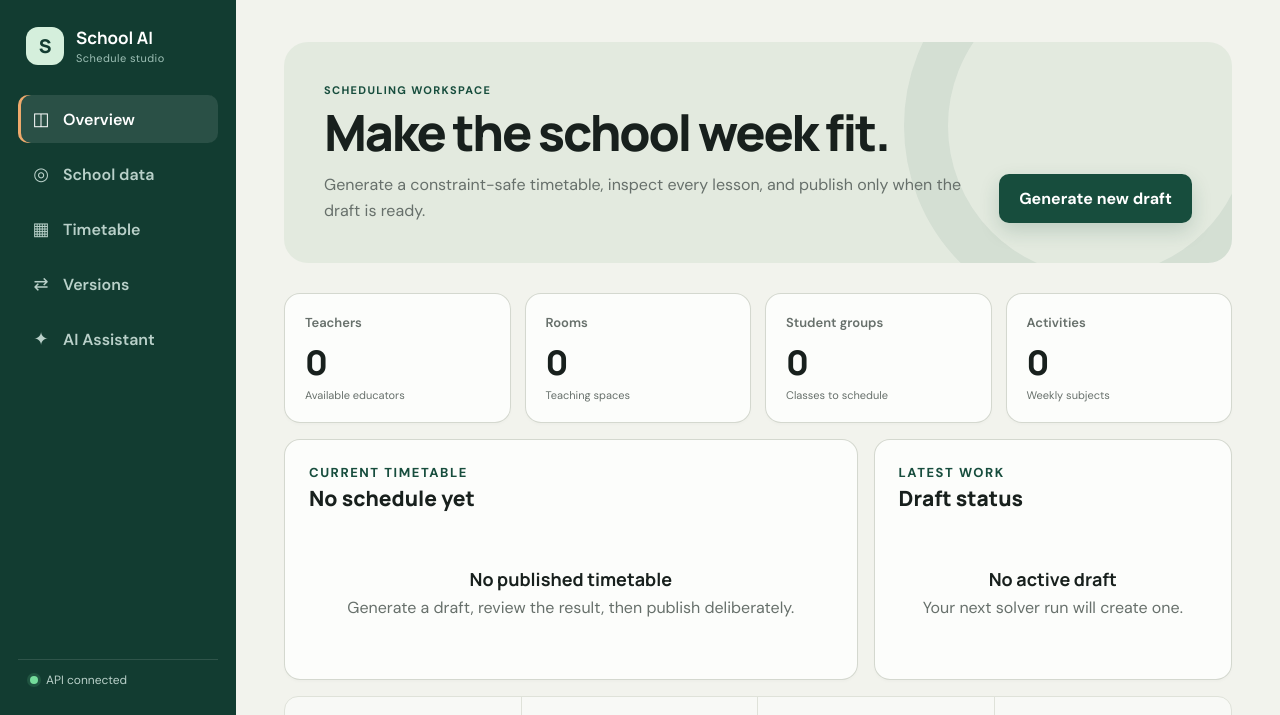
Test case: explains when scheduling master data has not been seeded
Click the button "Generate new draft". click: (1096, 199)
box: x1=999 y1=174 x2=1192 y2=223
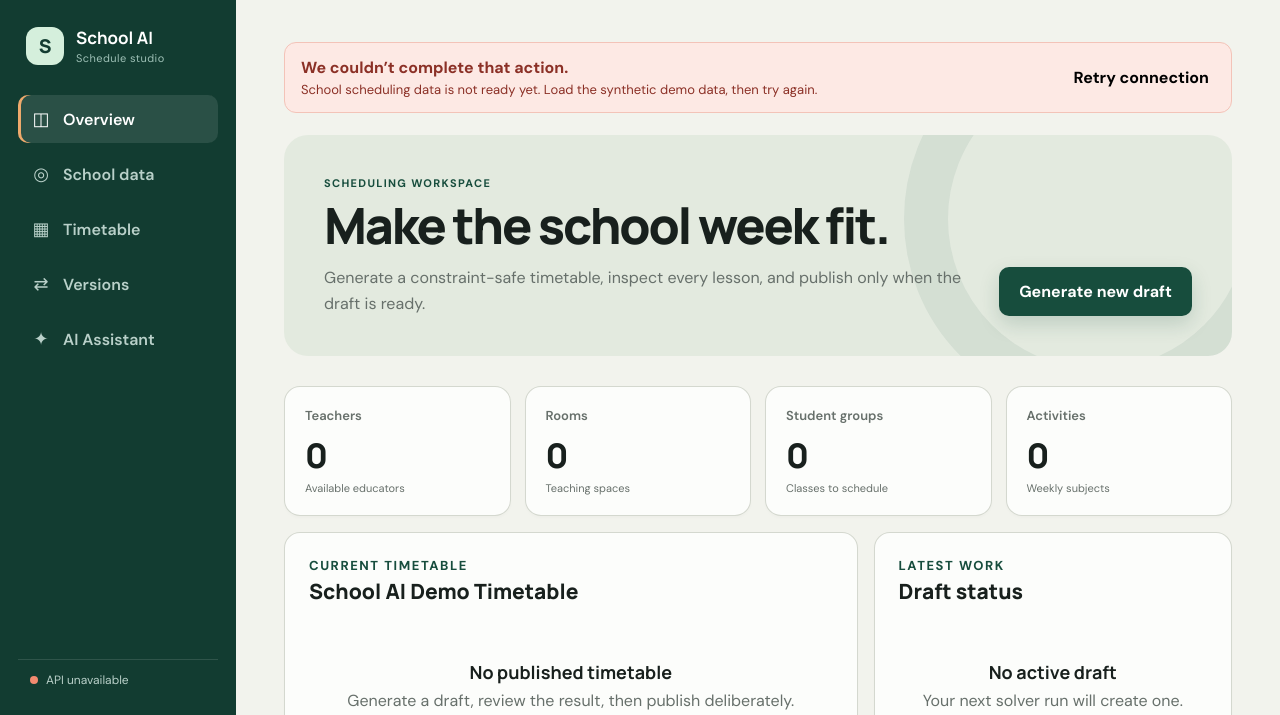
Expected: the message shows "School scheduling data is not ready yet. Load the synthetic demo data, then try again.", x1=301 y1=81 x2=817 y2=98
